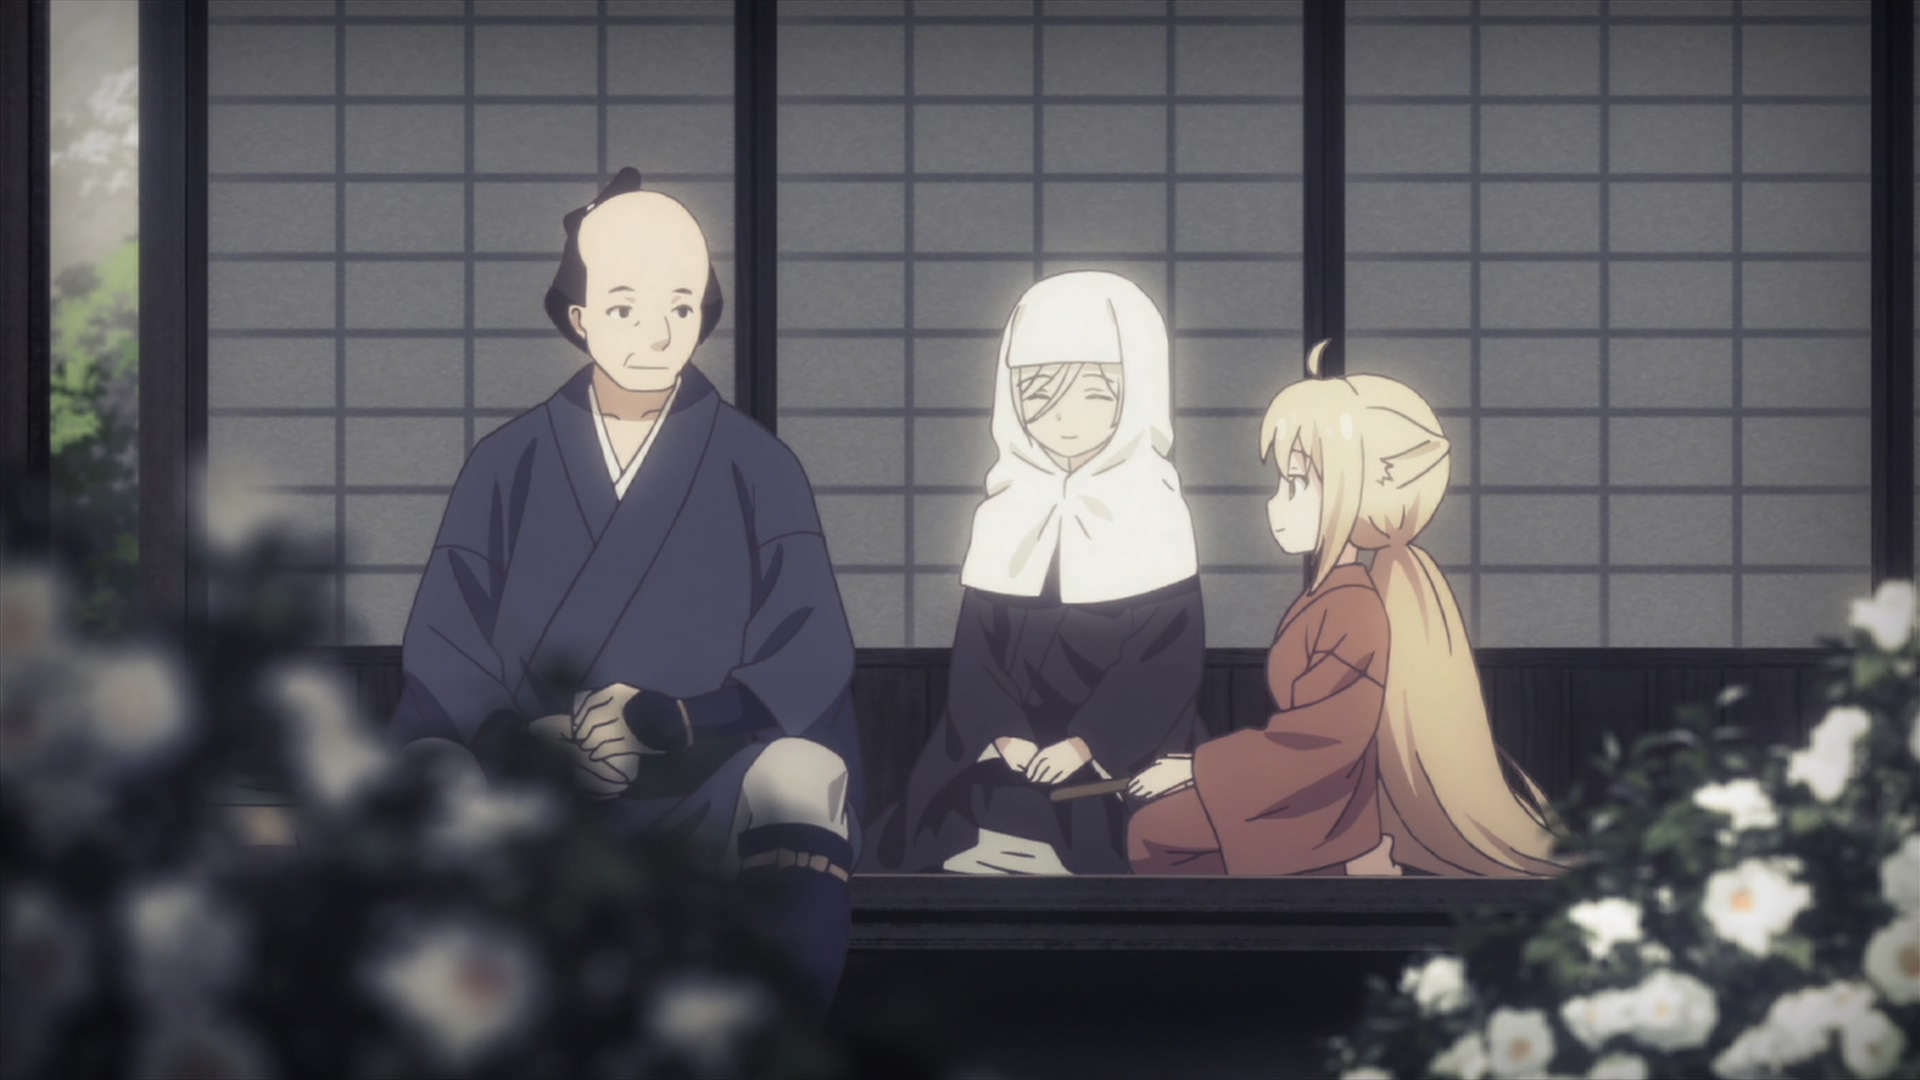八百比丘尼: (865, 272, 1209, 873)
其他: (390, 164, 862, 1007)
柚: (1124, 339, 1580, 877)
